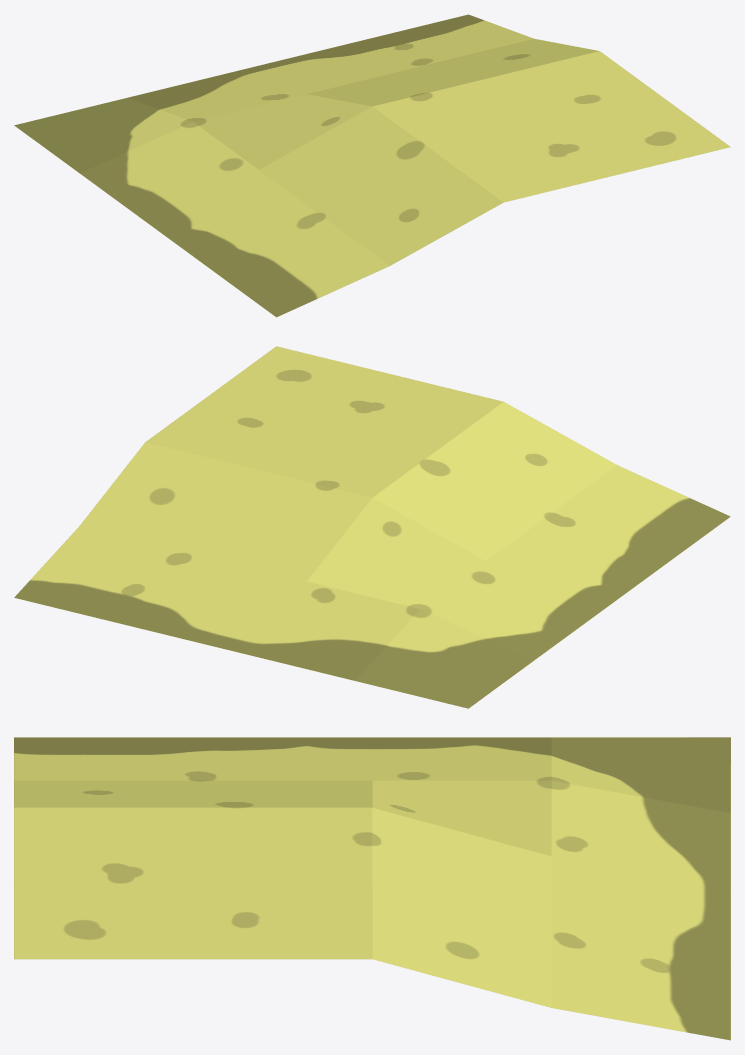
The model's file is AreiaInternoIE.glb.
The picture shows the model from 3 angles, top to bottom: view 1: azimuth 30°, elevation 25°; view 2: azimuth 150°, elevation 25°; view 3: azimuth 270°, elevation 25°; orthographic projection. The views are drawn at different scales.
Visible parts, largest first — view 1: Plano; view 2: Plano; view 3: Plano.
Boxes of the visible parts, box(x1,y1,x2,y2) form: Plano: box(14, 14, 730, 317); Plano: box(14, 346, 730, 708); Plano: box(14, 737, 730, 1040).
Bounding box in the file's own units: 2 × 0.25 × 2.
1 material, 1 textured.
